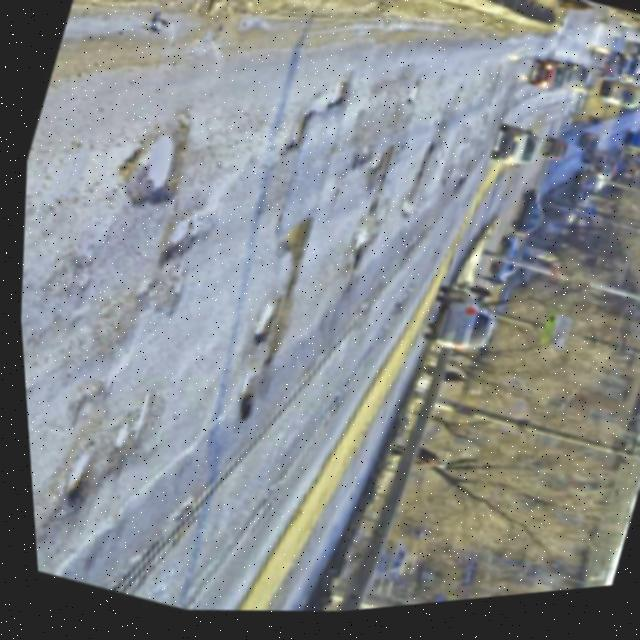Pothole: (106, 114, 209, 224), (264, 61, 360, 178), (36, 425, 106, 514), (259, 212, 326, 279), (217, 359, 273, 432), (335, 208, 389, 277), (151, 206, 209, 267), (339, 145, 395, 198), (238, 297, 281, 353)
